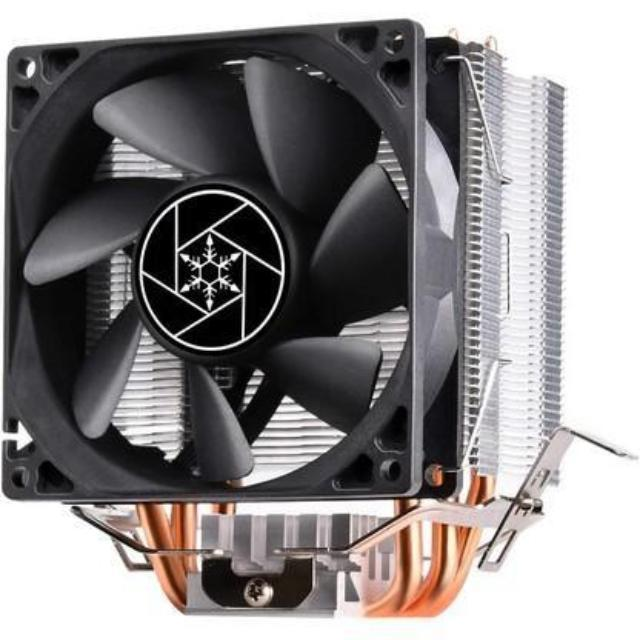CPU_Fan: (6, 21, 568, 621)
